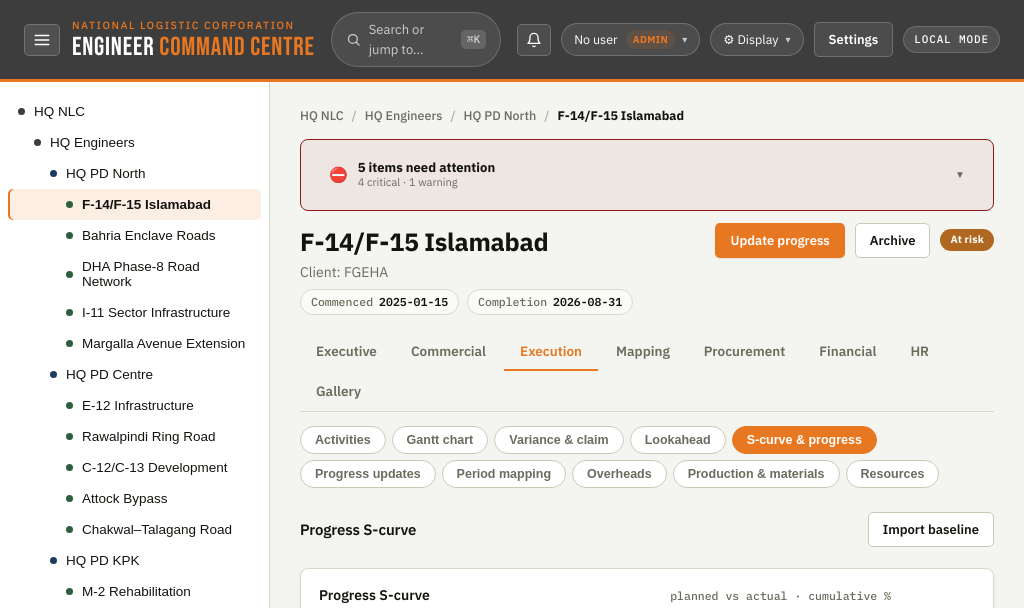
Test case: Phase 4 — execution › shows the rolling lookahead with an in-progress activity
The image size is (1024, 608).
Expected: the heading "Progress S-curve" is shown, top-left (300, 518), bottom-right (416, 541)
What coordinates should you click on to do the following:
click the tab "Lookahead"
I would click on:
 (678, 440)
Its box is top-left (630, 426), bottom-right (726, 454).
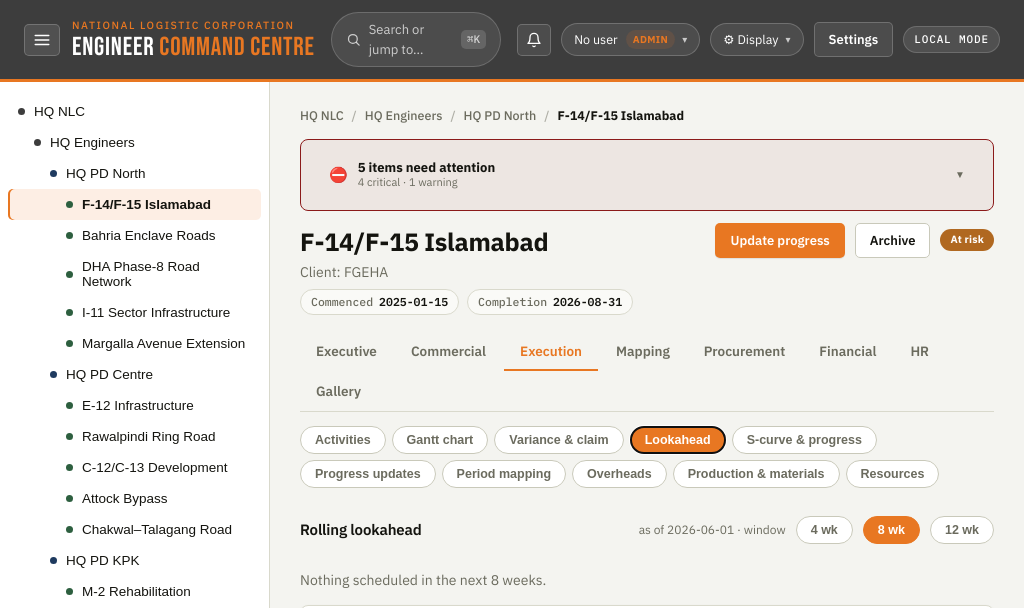
Expected: the heading "Rolling lookahead" is shown, top-left (300, 518), bottom-right (422, 541)
